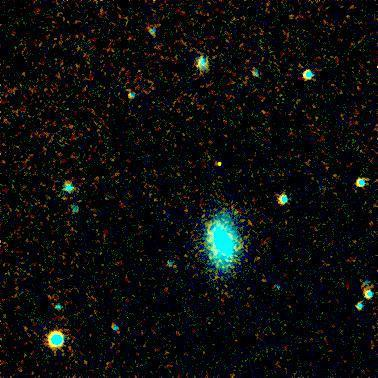star: (203, 149, 233, 179)
